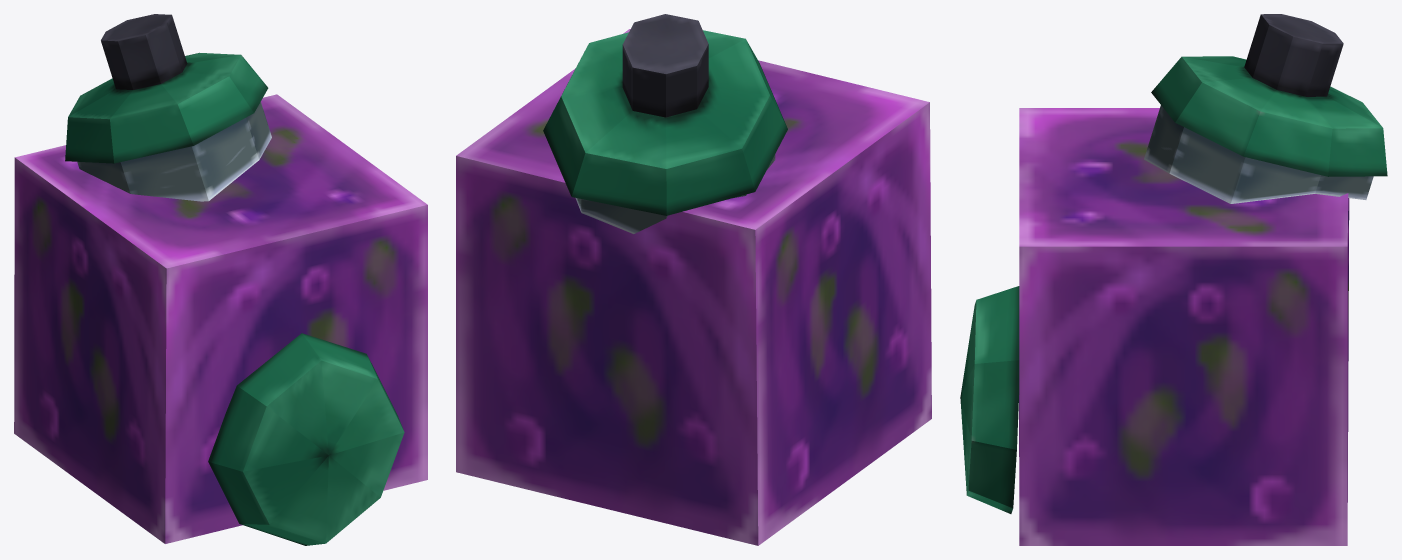
The model's file is Prim_CorruptedFlora_FlaskExploded.fbx.
3 views of the same model, side by side, from view 1: azimuth 30°, elevation 25°; view 2: azimuth 150°, elevation 25°; view 3: azimuth 270°, elevation 25° (orthographic). The views are drawn at different scales.
Parts seen in each view (by area): view 1: Prim_CorruptedFlora_FlaskExploded; view 2: Prim_CorruptedFlora_FlaskExploded; view 3: Prim_CorruptedFlora_FlaskExploded.
Boxes of the visible parts, left/top/right/bottom form: Prim_CorruptedFlora_FlaskExploded: left=14, top=14, right=427, bottom=545; Prim_CorruptedFlora_FlaskExploded: left=456, top=14, right=931, bottom=545; Prim_CorruptedFlora_FlaskExploded: left=960, top=14, right=1387, bottom=545.
Bounding box in the file's own units: 178 × 284 × 230.
